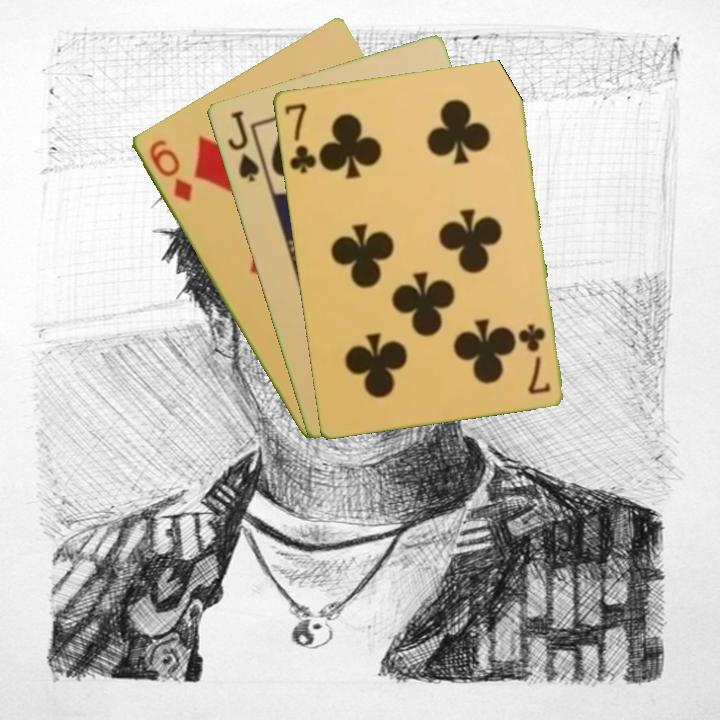6d: (145, 136, 195, 205)
7c: (280, 99, 319, 176), (516, 320, 553, 397)
Js: (223, 107, 262, 185)
